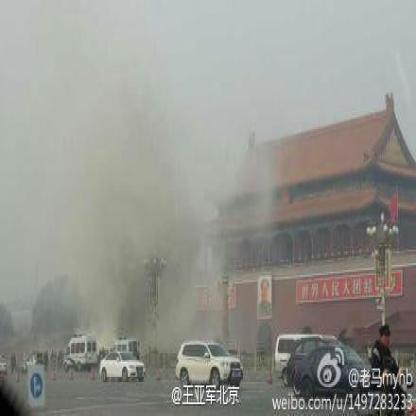smoke: (62, 76, 210, 352)
